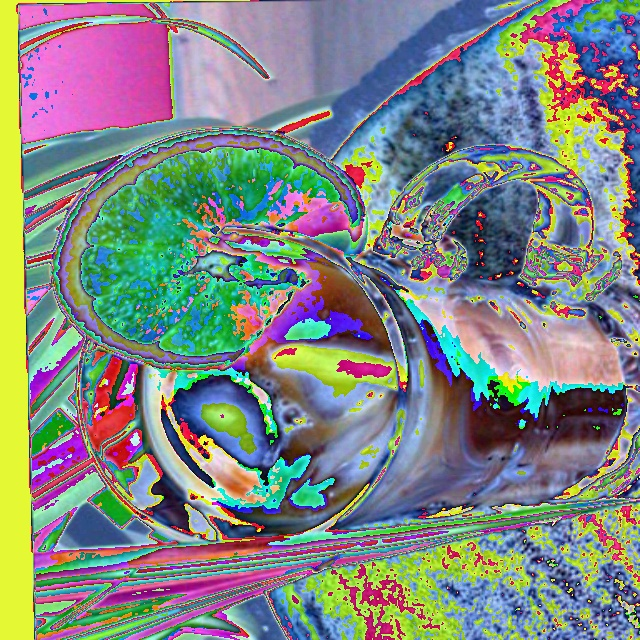background: (50, 127, 626, 523)
